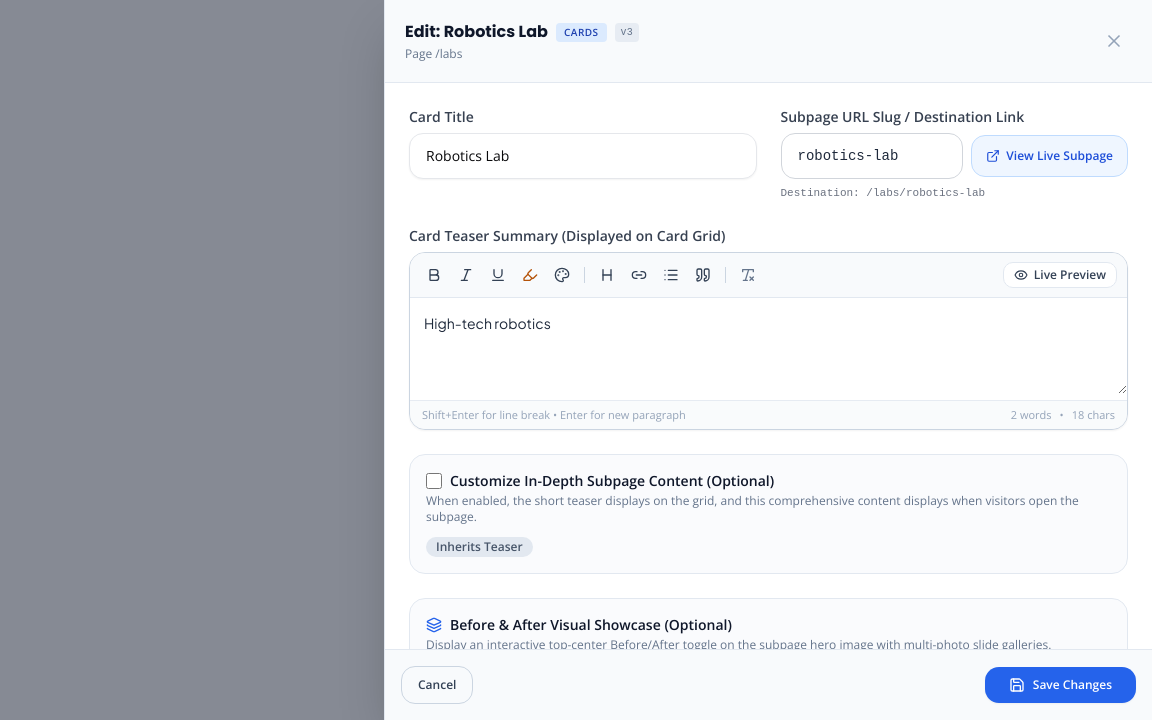
ItemEditorDrawer Component › shows the server error and no conflict dialog when a save is rejected
The width and height of the screenshot is (1152, 720).
Click the button "Save Changes" at (1060, 685), box [985,667,1136,703]
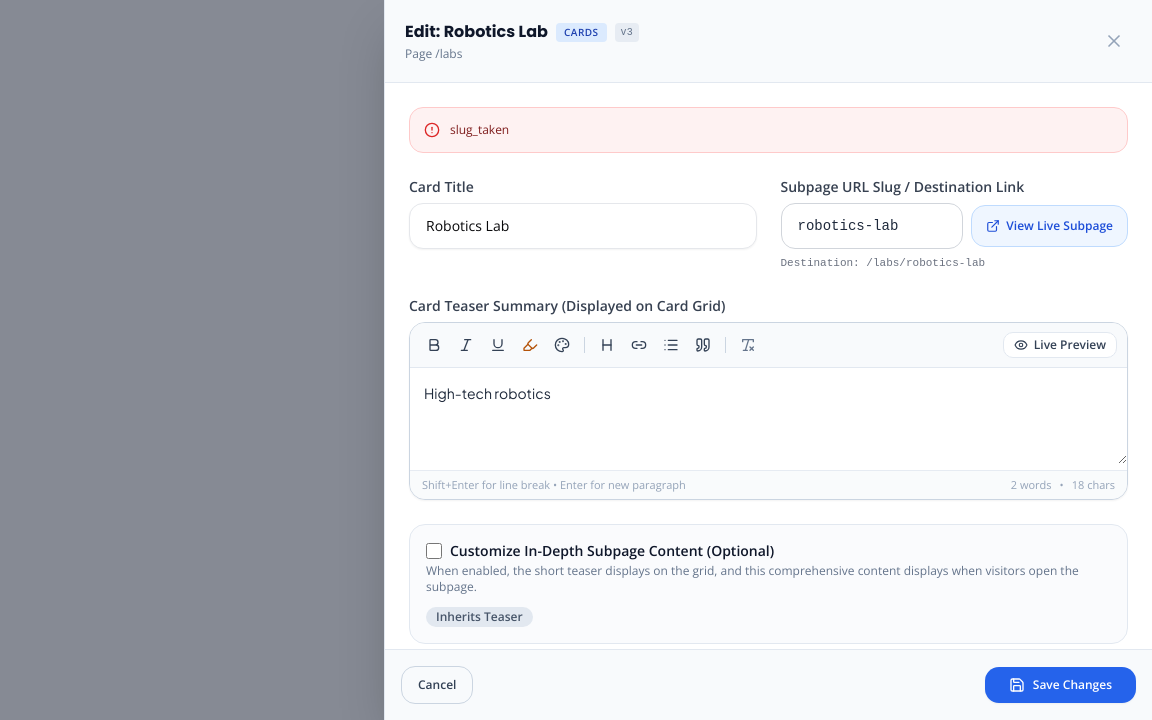
Result: the text "slug_taken" is shown at [450,122,509,138]
